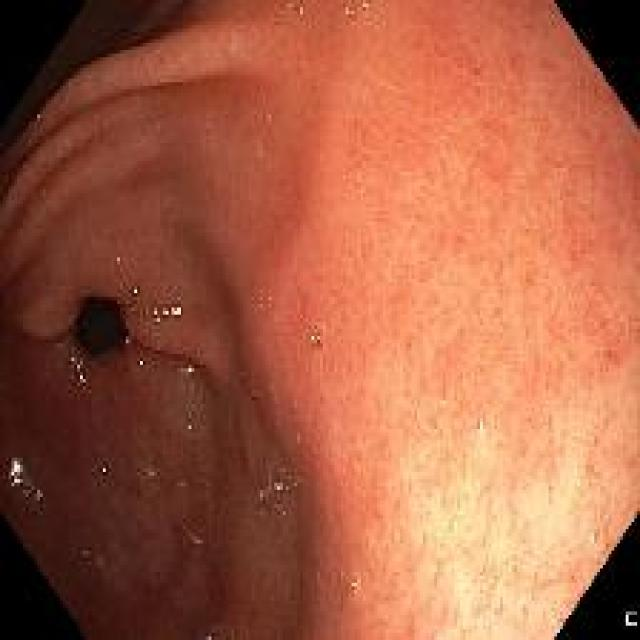bubbles: (255, 472, 295, 518), (68, 353, 89, 388), (341, 3, 373, 22), (341, 571, 363, 597), (125, 300, 149, 321), (177, 359, 198, 381), (280, 3, 307, 20), (192, 620, 220, 636), (586, 525, 602, 548), (308, 328, 324, 348), (472, 416, 488, 436), (142, 464, 158, 482), (30, 112, 45, 128)
contrast: (0, 1, 205, 84), (68, 296, 131, 353)
saturation: (420, 461, 573, 632)
specularity: (66, 350, 88, 388), (9, 451, 25, 492), (150, 305, 184, 324), (98, 463, 111, 482), (128, 284, 142, 296)
